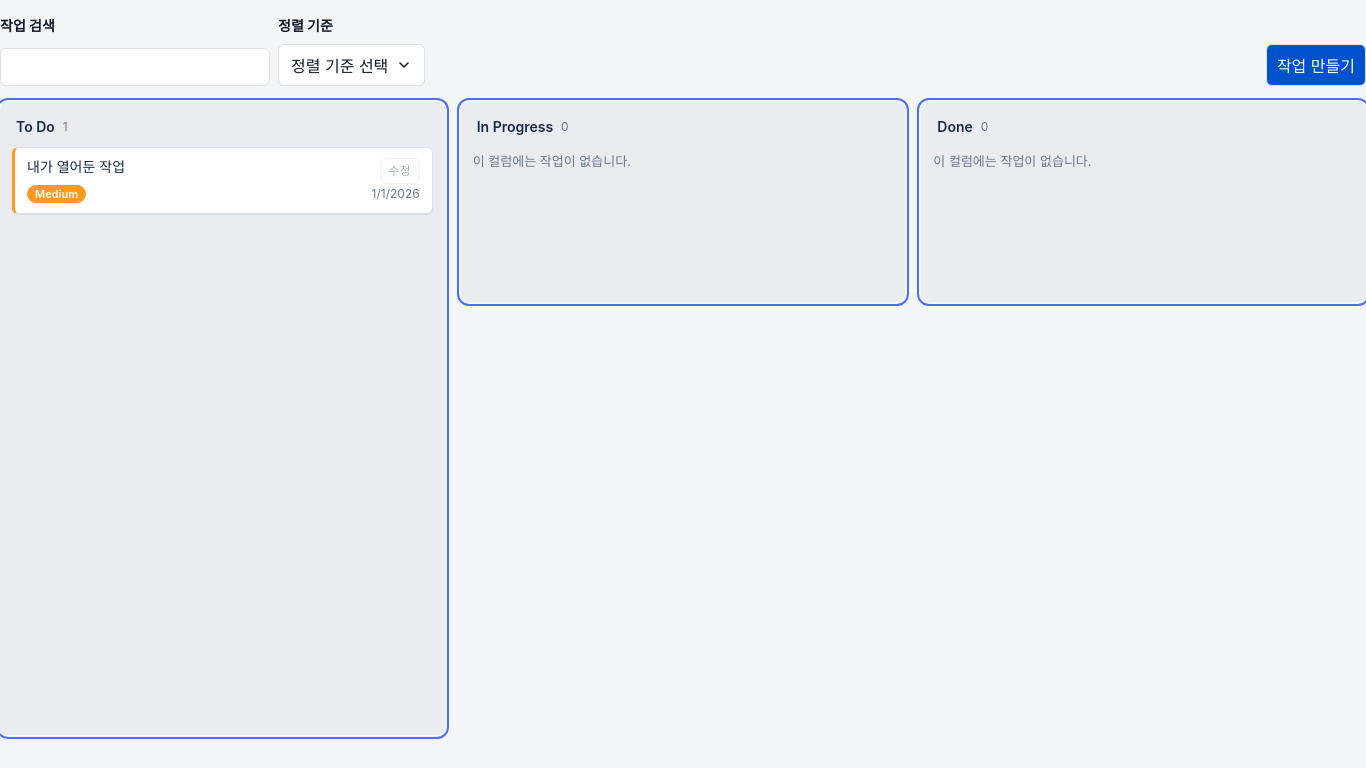
it: 보드 task form CRUD › 409 충돌은 서버 current를 반영하고 사용자 draft를 보존한다
This screenshot has width=1366, height=768.
Check: the text "내가 열어둔 작업" is shown, box 27,158 -> 125,175
Click the button "수정": (400, 171) 380,158 -> 420,184
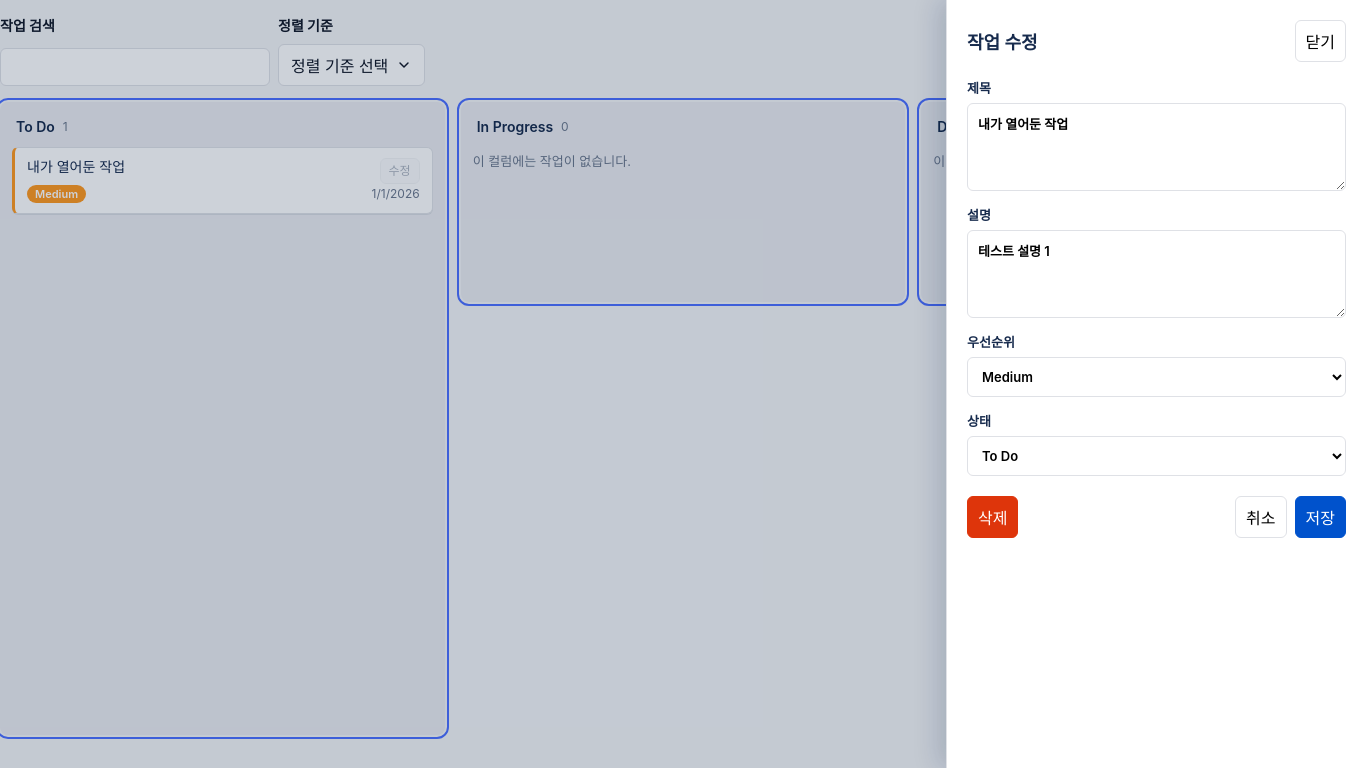
Replace the text in the text box labelled "제목" with "내 draft 제목": (1156, 147) 967,103 -> 1346,191
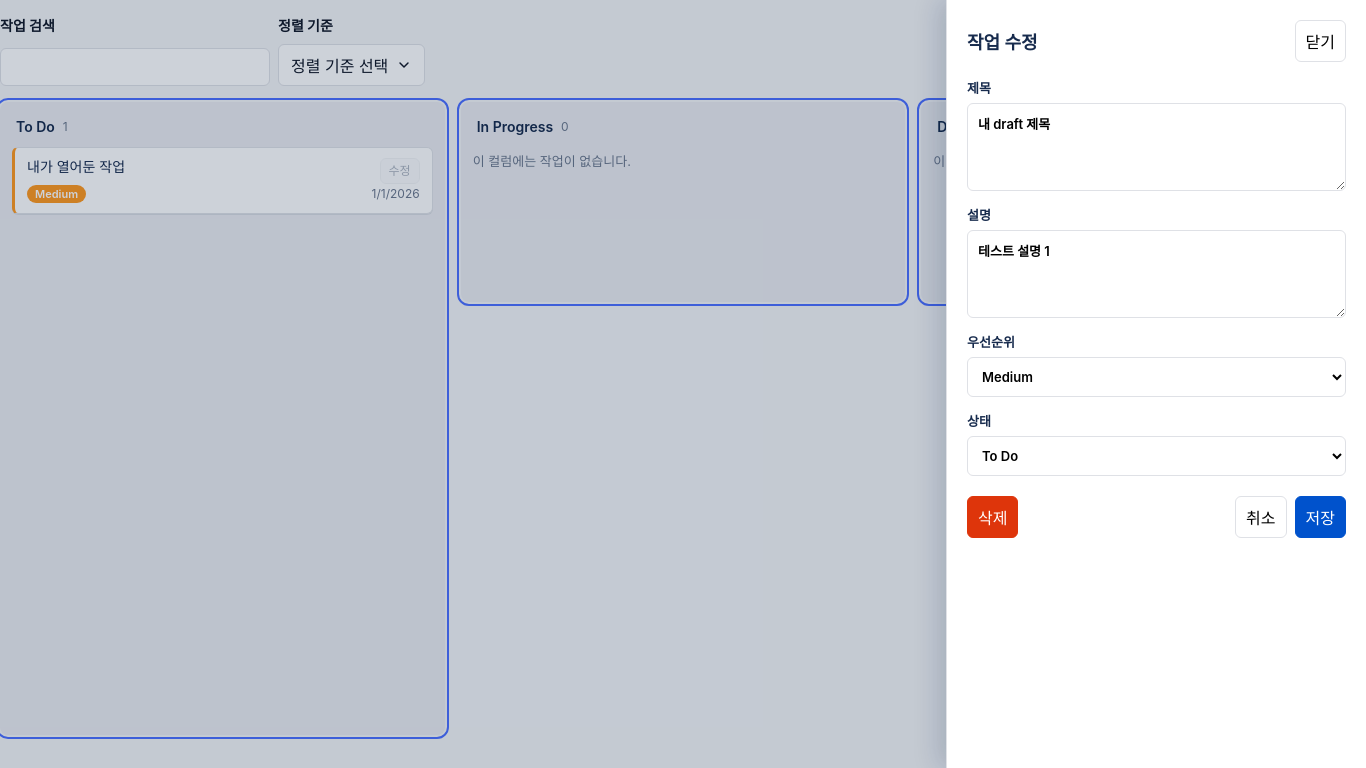
Click the button "저장": (1320, 517) 1294,496 -> 1346,538
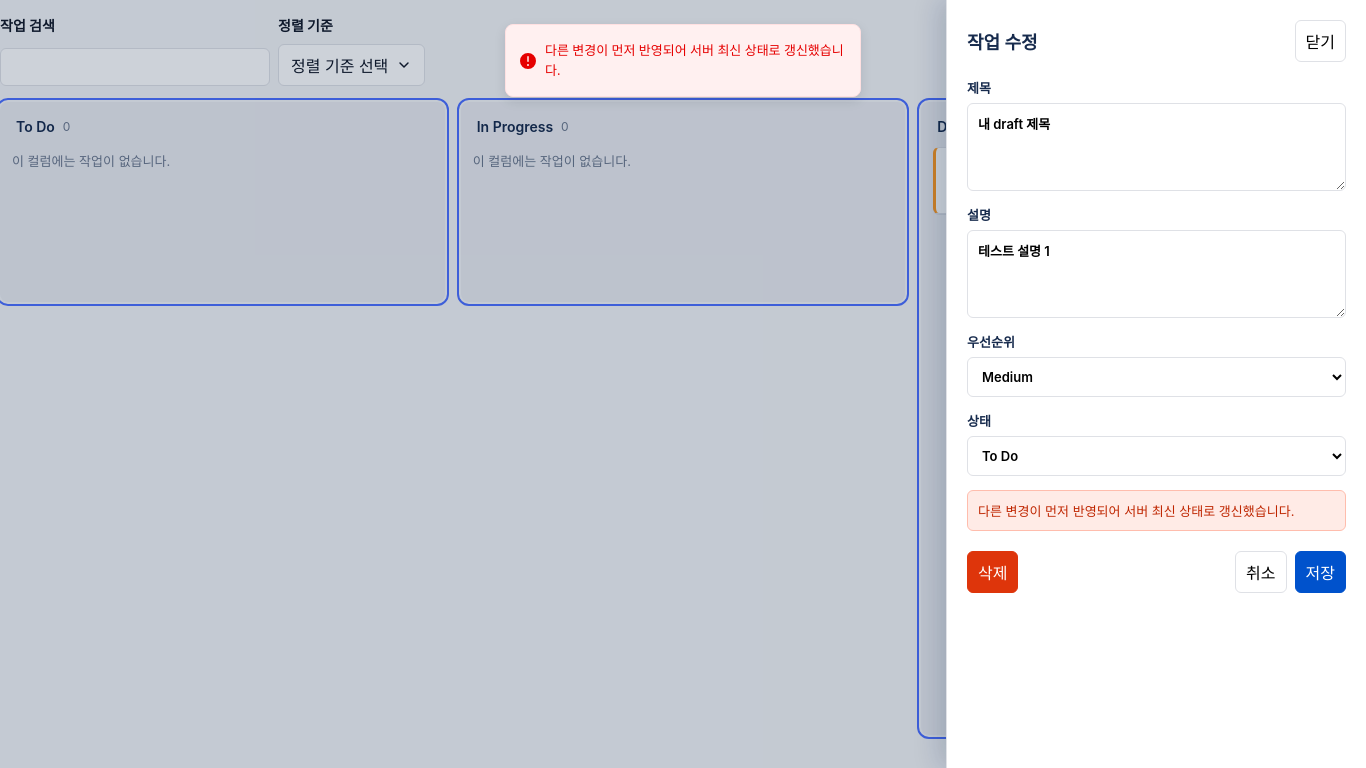
Check: the text "서버 최신 작업" is shown, box 948,158 -> 1034,175
Check: the message reads "다른 변경이 먼저 반영되어 서버 최신 상태로 갱신했습니다.", box 978,503 -> 1294,519
